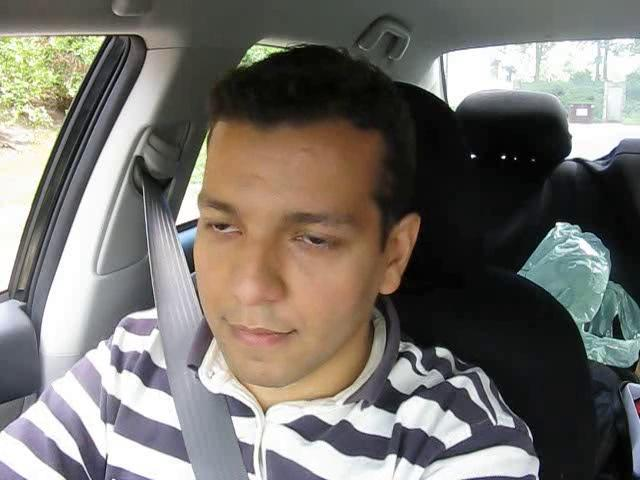close_eyeL: (197, 204, 251, 247)
close_eyeR: (278, 217, 356, 263)
no_yawn: (212, 308, 313, 359)
